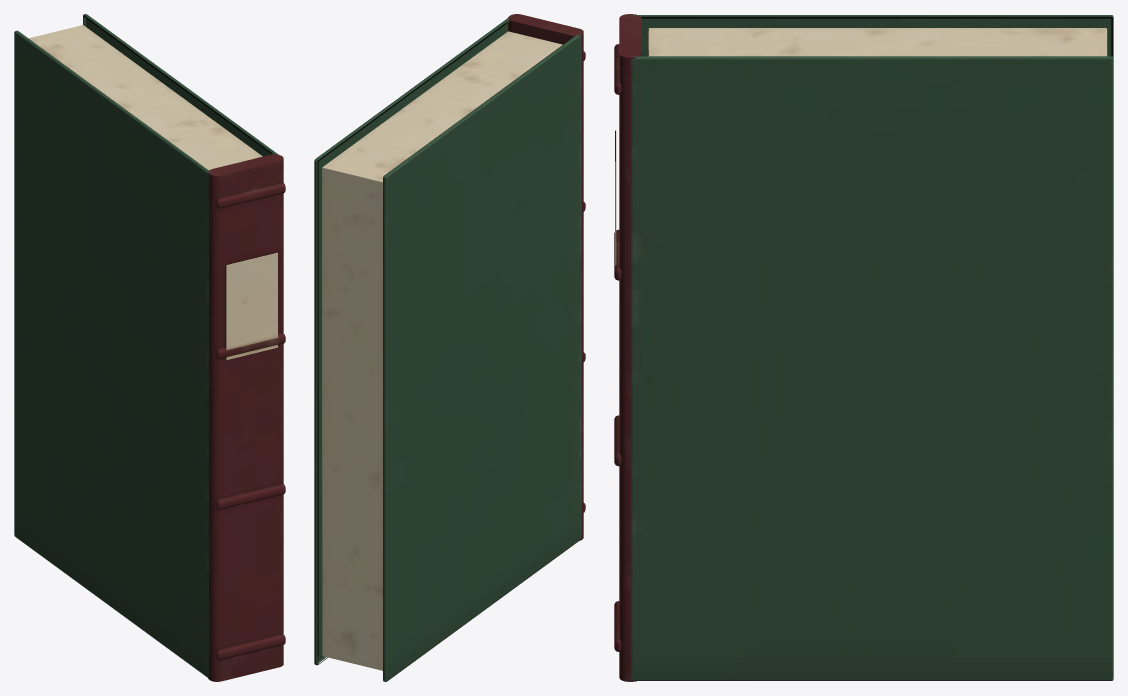
File: ledger-a.glb
3 views of the same model, side by side, from view 1: azimuth 30°, elevation 25°; view 2: azimuth 150°, elevation 25°; view 3: azimuth 270°, elevation 25° (orthographic). The views are drawn at different scales.
Visible parts, largest first — view 1: ledger; view 2: ledger; view 3: ledger.
Boxes of the visible parts, <box> form: ledger: <box>14,14,285,681</box>; ledger: <box>314,14,585,681</box>; ledger: <box>614,14,1113,681</box>.
Bounding box in the file's own units: 0.056 × 0.372 × 0.2697.
1 material, 1 textured.
